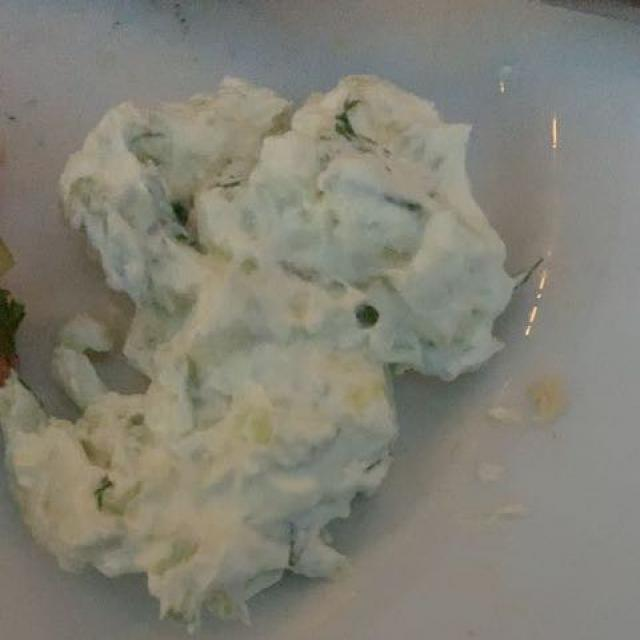tzatziki: (22, 89, 513, 605)
